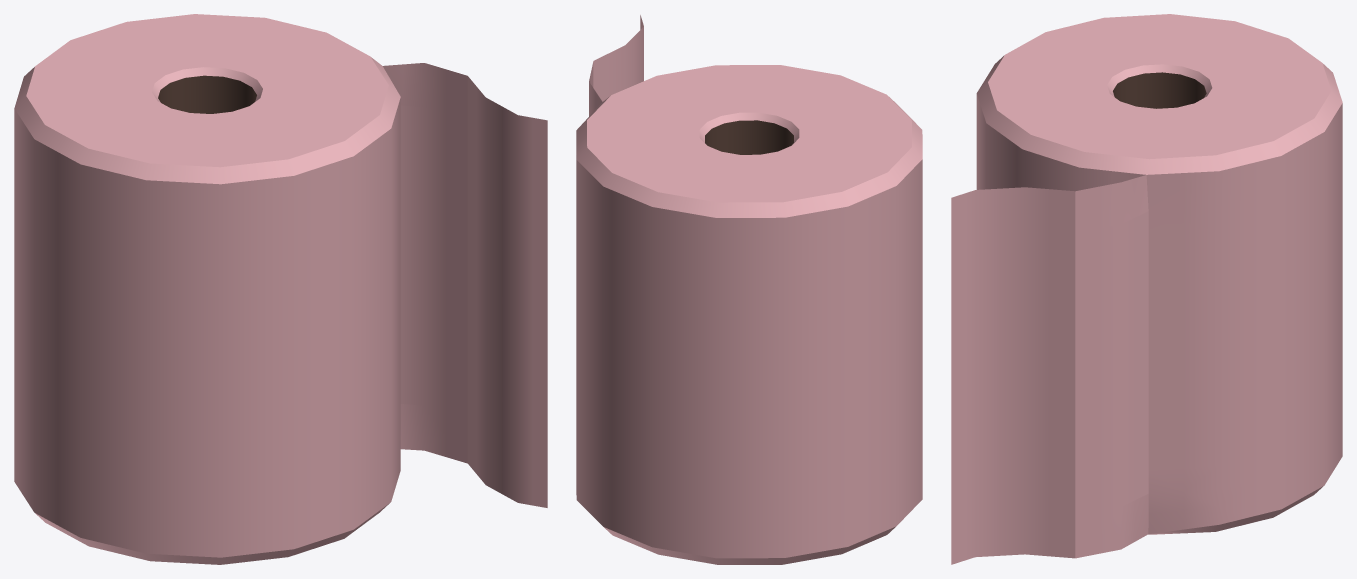
File: Tissue.fbx
3 renders of one model, left to right at view 1: azimuth 30°, elevation 25°; view 2: azimuth 150°, elevation 25°; view 3: azimuth 270°, elevation 25°, orthographic. The views are drawn at different scales.
Visible parts, largest first — view 1: Tissue; view 2: Tissue; view 3: Tissue.
Part boxes in pixels (x1,y1,x2,y2): Tissue: (14,14,547,564); Tissue: (576,15,922,564); Tissue: (951,14,1342,564).
Bounding box in the file's own units: 30.22 × 28.92 × 27.24.
